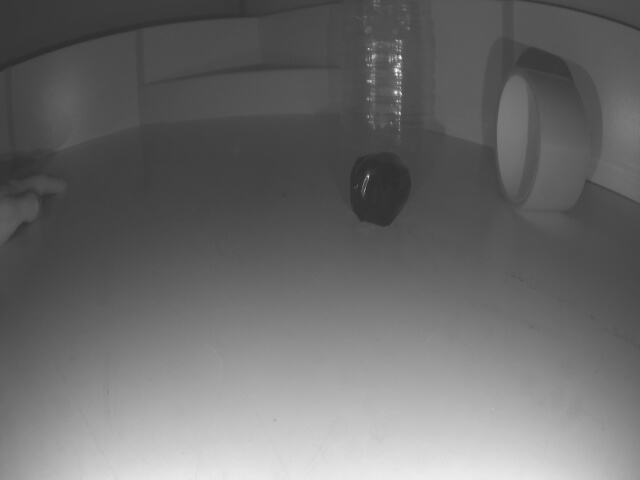Dead: (348, 147, 405, 227)
Point: (138, 68, 339, 125)
